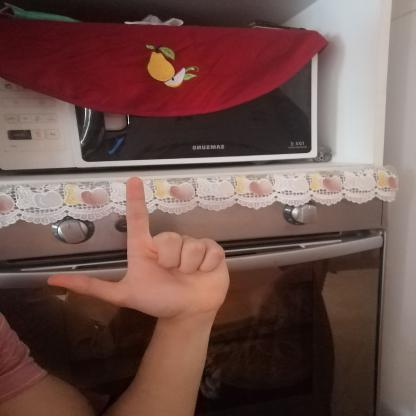LAAM: (33, 167, 242, 329)
